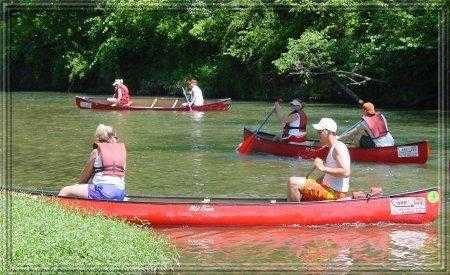kayak: (21, 188, 441, 229), (239, 127, 433, 164), (74, 96, 234, 114)
